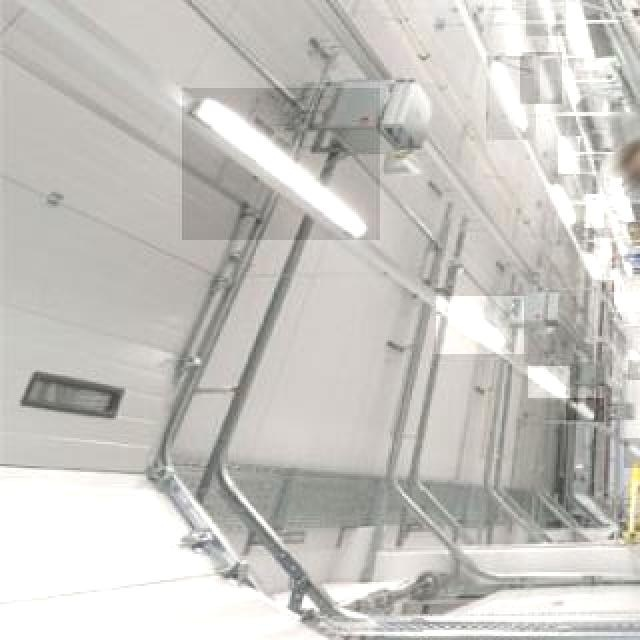fluorescent tube: (182, 91, 371, 247), (429, 294, 524, 351), (529, 171, 587, 229), (491, 59, 529, 137), (520, 355, 576, 393), (524, 53, 558, 96), (556, 400, 604, 427), (528, 0, 558, 28), (462, 0, 510, 2)
